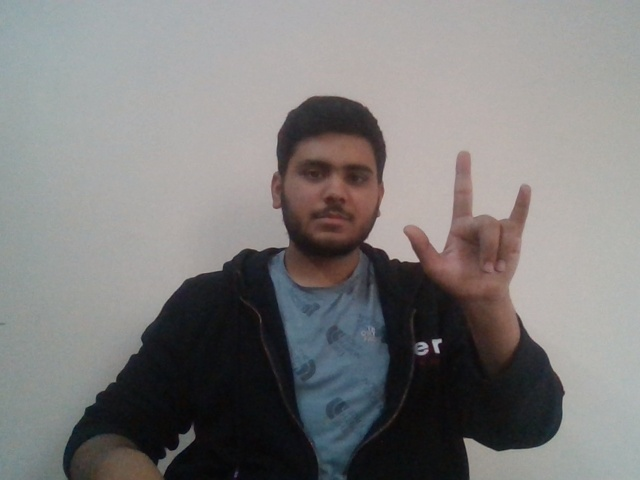IloveYou: (397, 147, 539, 287)
